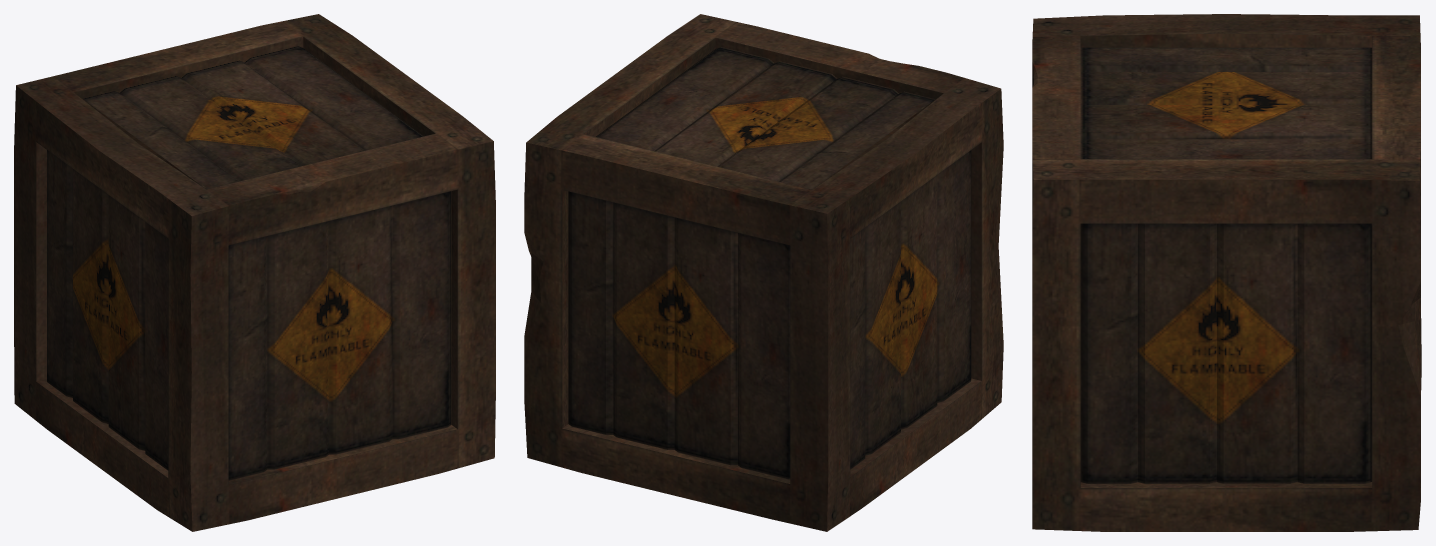
The model's file is wooden_crate_4.obj.
The picture shows the model from 3 angles, left to right: view 1: azimuth 30°, elevation 25°; view 2: azimuth 150°, elevation 25°; view 3: azimuth 270°, elevation 25°; orthographic projection. The views are drawn at different scales.
Parts seen in each view (by area): view 1: wooden_crate_4; view 2: wooden_crate_4; view 3: wooden_crate_4.
Part boxes in pixels (left/top/right/bottom): wooden_crate_4: left=14, top=14, right=495, bottom=531; wooden_crate_4: left=524, top=14, right=1003, bottom=531; wooden_crate_4: left=1032, top=14, right=1421, bottom=531.
Size of the model in its own units: 1.09 by 1.08 by 1.08.
